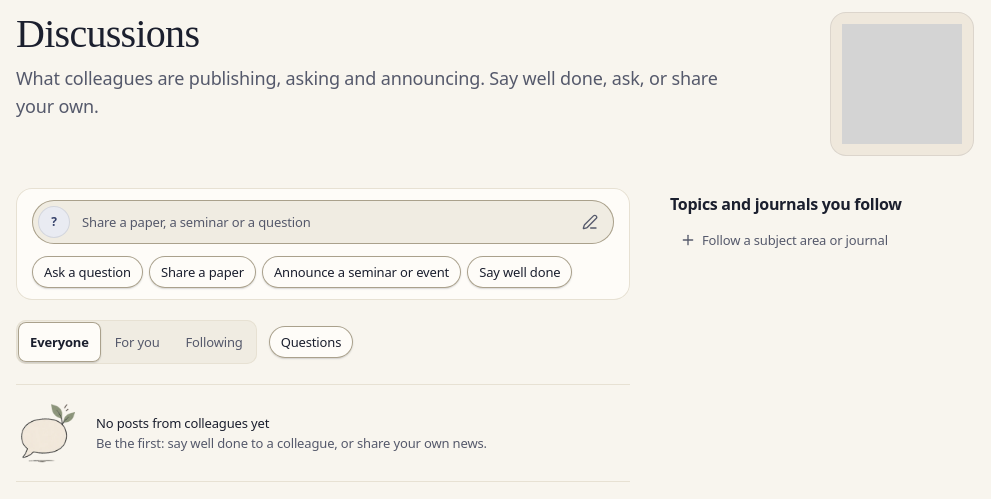
Test case: Feed › shows who asked each thread, with a face, and whether it is answered
This screenshot has width=991, height=499.
Click the button "Questions" at (311, 342), box [269,326,353,358]
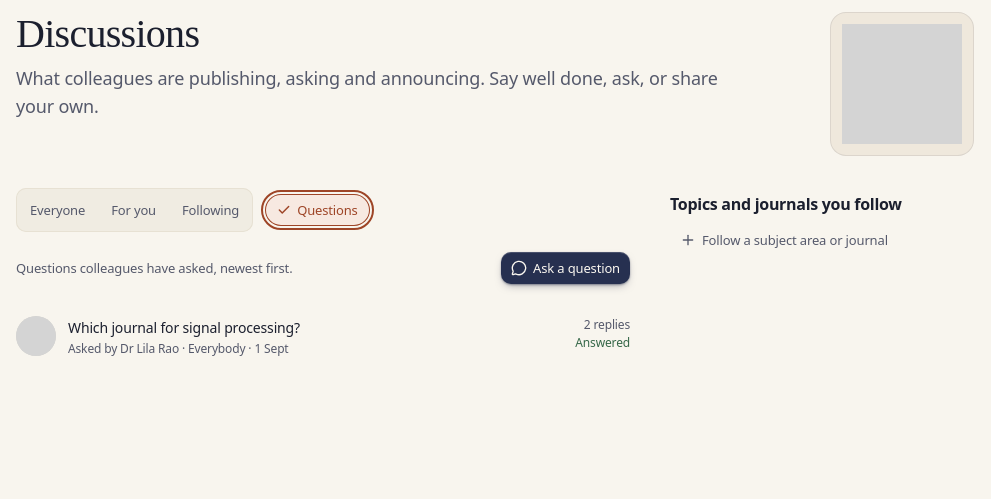
Now the link "Which journal for signal processing" shows "Asked by Dr Lila Rao", box [16,316,630,357]
Now the link "Which journal for signal processing" shows "2 replies", box [16,316,630,357]
Now the link "Which journal for signal processing" shows "Answered", box [16,316,630,357]
